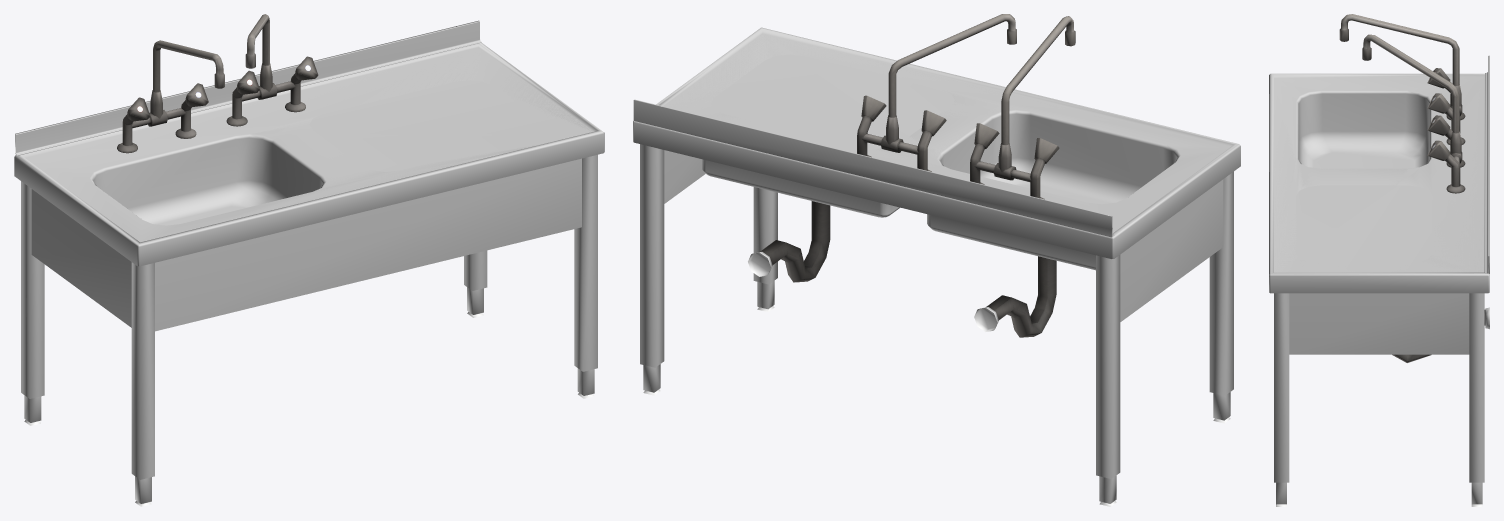
The model's file is gastro_spuelbecken.fbx.
The picture shows the model from 3 angles, left to right: view 1: azimuth 30°, elevation 25°; view 2: azimuth 150°, elevation 25°; view 3: azimuth 270°, elevation 25°; orthographic projection. The views are drawn at different scales.
Visible parts, largest first — view 1: gastro_spuelbecken_01, gastro_spuelbecken_02; view 2: gastro_spuelbecken_01, gastro_spuelbecken_02; view 3: gastro_spuelbecken_01, gastro_spuelbecken_02.
Boxes of the visible parts, x1=… form: gastro_spuelbecken_01: x1=14, y1=14, x2=604, y2=506; gastro_spuelbecken_02: x1=25, y1=40, x2=593, y2=227; gastro_spuelbecken_01: x1=633, y1=14, x2=1240, y2=506; gastro_spuelbecken_02: x1=664, y1=16, x2=1225, y2=199; gastro_spuelbecken_01: x1=1269, y1=34, x2=1489, y2=506; gastro_spuelbecken_02: x1=1274, y1=14, x2=1484, y2=272.
Bounding box in the file's own units: 165 × 133 × 76.54.
